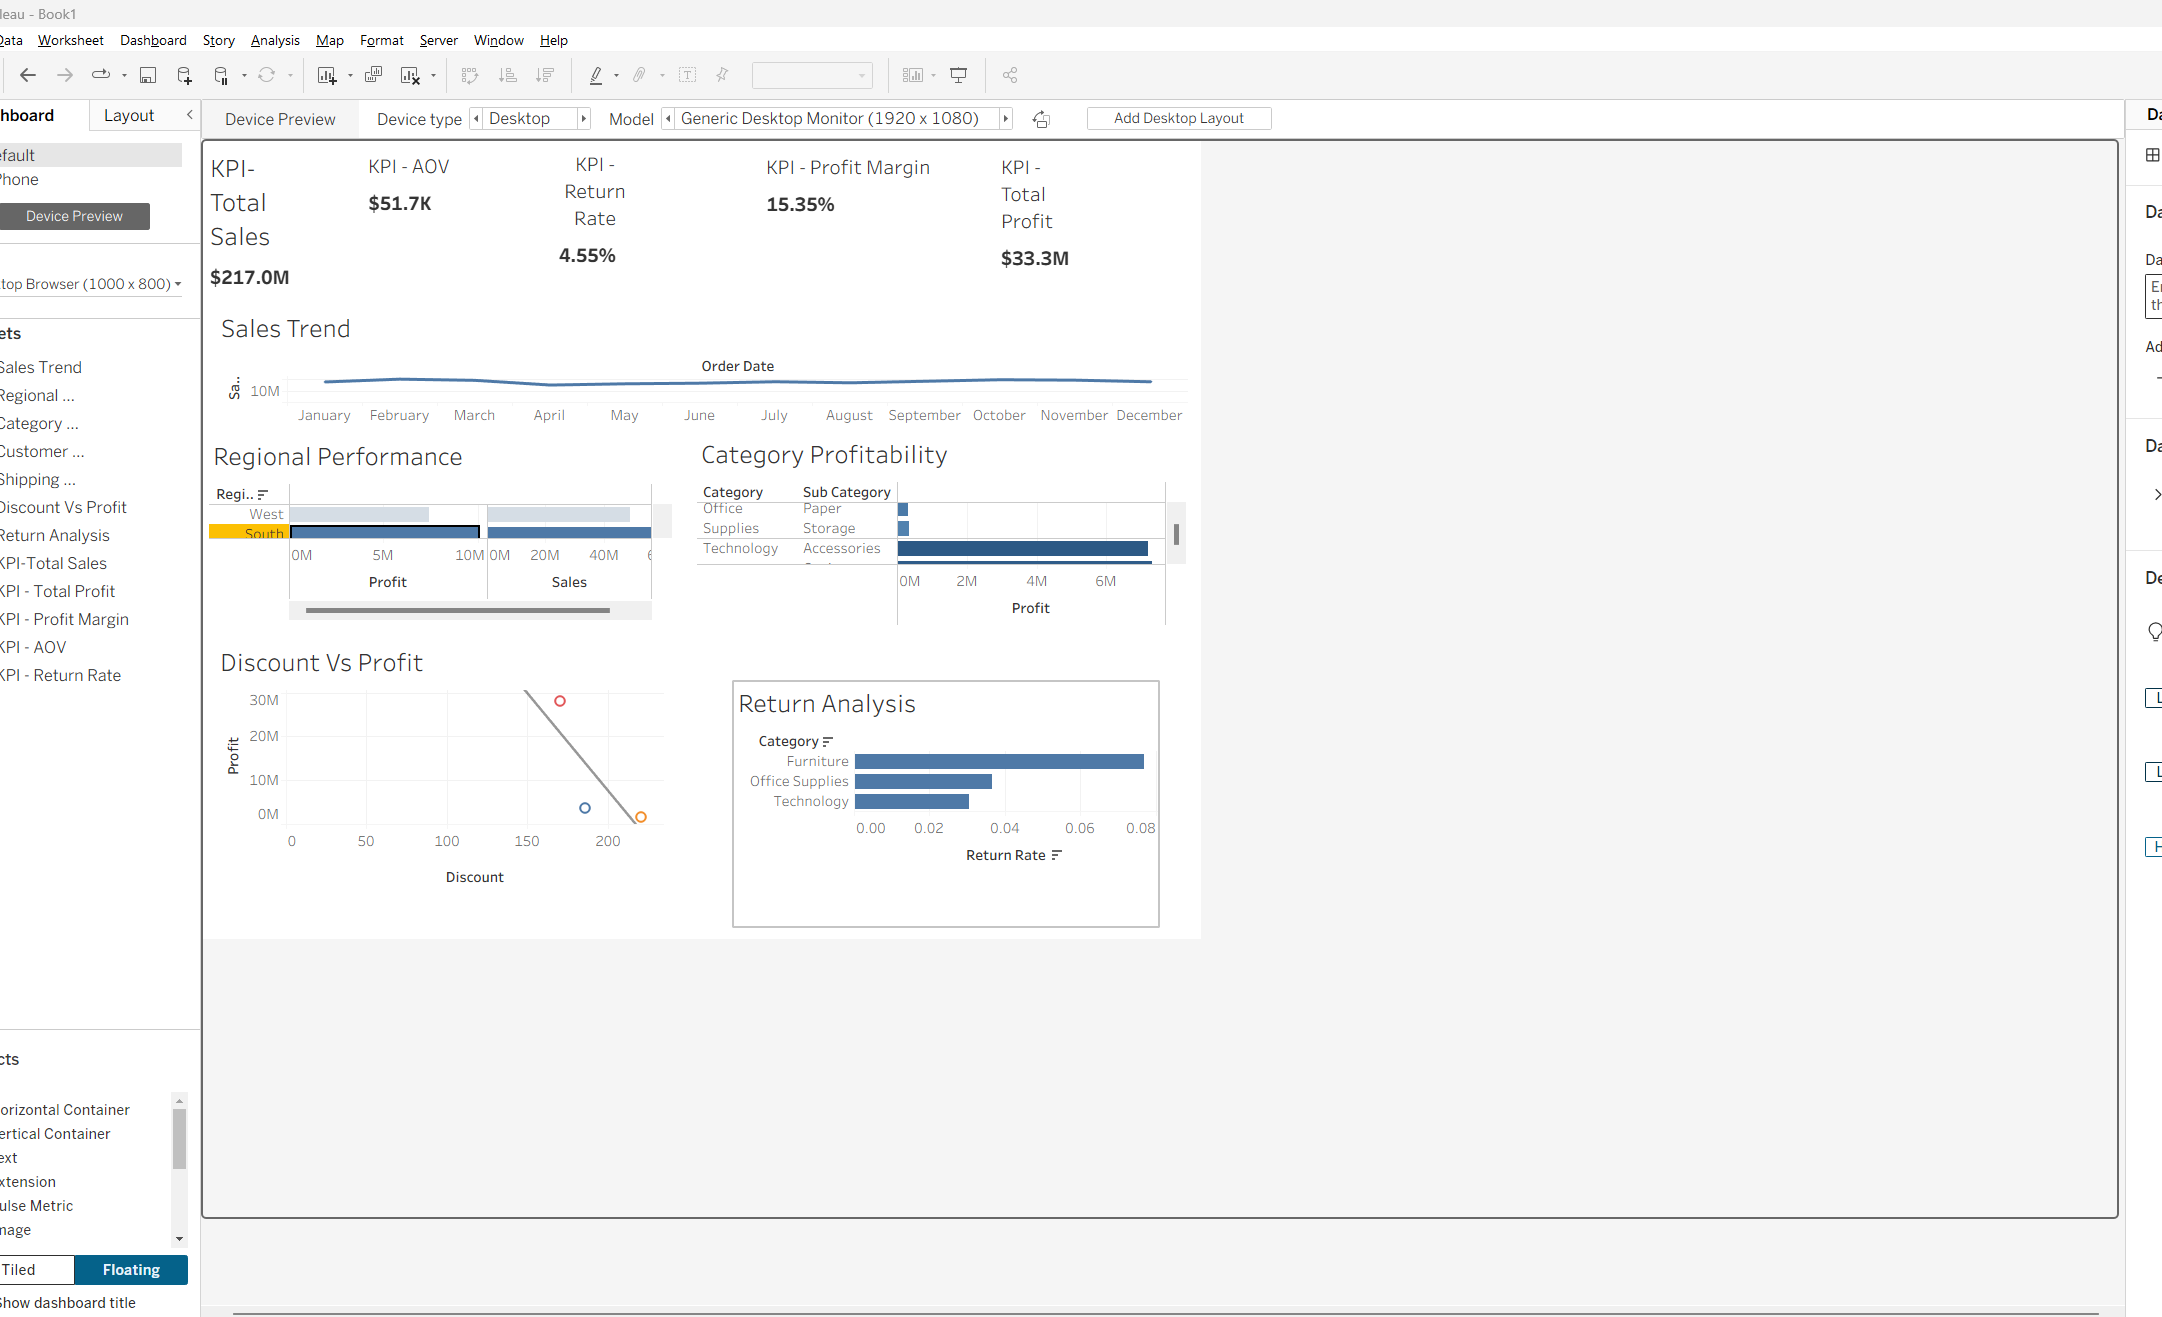

The dashboard page shown, as its layout file describes it:
{"tool":"tableau","page":{"name":"Executive Dashboard","canvas":[1000,800],"ordinal":0},"visuals":[{"type":"worksheet","title":"KPI - Return Rate","mark":"Automatic","box":[354,7,197,127]},{"type":"worksheet","title":"KPI-Total Sales","mark":"Automatic","box":[5,8,176,150]},{"type":"worksheet","title":"KPI - AOV","mark":"Automatic","box":[163,9,167,117]},{"type":"worksheet","title":"KPI - Profit Margin","mark":"Automatic","box":[561,10,193,118]},{"type":"worksheet","title":"KPI - Total Profit","mark":"Automatic","box":[796,10,191,134]},{"type":"worksheet","title":"Sales Trend","mark":"Line","rows":["sales"],"cols":["order_date"],"box":[16,168,971,137]},{"type":"worksheet","title":"Regional Performance","mark":"Automatic","rows":["region"],"cols":["profit","sales"],"box":[27,285,417,196]},{"type":"worksheet","title":"Category Profitability","mark":"Automatic","rows":["category","sub_category"],"cols":["profit"],"box":[496,294,489,193]},{"type":"worksheet","title":"Discount Vs Profit","mark":"Automatic","rows":["profit"],"cols":["discount"],"box":[15,502,448,253]},{"type":"worksheet","title":"Return Analysis","mark":"Automatic","rows":["category"],"cols":["Calculation_0367528889700355"],"box":[533,543,424,246]}]}

Visuals, with their boxes on the page's 1000x800 design canvas (x1, y1, x2, y2). These are canvas units, not pixel positions in the 2162x1317 screenshot, which may show the page scaled, cropped or inside an application window:
"KPI - Return Rate" worksheet: pyautogui.locateOnScreen(354, 7, 551, 134)
"KPI-Total Sales" worksheet: pyautogui.locateOnScreen(5, 8, 181, 158)
"KPI - AOV" worksheet: pyautogui.locateOnScreen(163, 9, 330, 126)
"KPI - Profit Margin" worksheet: pyautogui.locateOnScreen(561, 10, 754, 128)
"KPI - Total Profit" worksheet: pyautogui.locateOnScreen(796, 10, 987, 144)
"Sales Trend" worksheet (Line marks): pyautogui.locateOnScreen(16, 168, 987, 305)
"Regional Performance" worksheet: pyautogui.locateOnScreen(27, 285, 444, 481)
"Category Profitability" worksheet: pyautogui.locateOnScreen(496, 294, 985, 487)
"Discount Vs Profit" worksheet: pyautogui.locateOnScreen(15, 502, 463, 755)
"Return Analysis" worksheet: pyautogui.locateOnScreen(533, 543, 957, 789)
